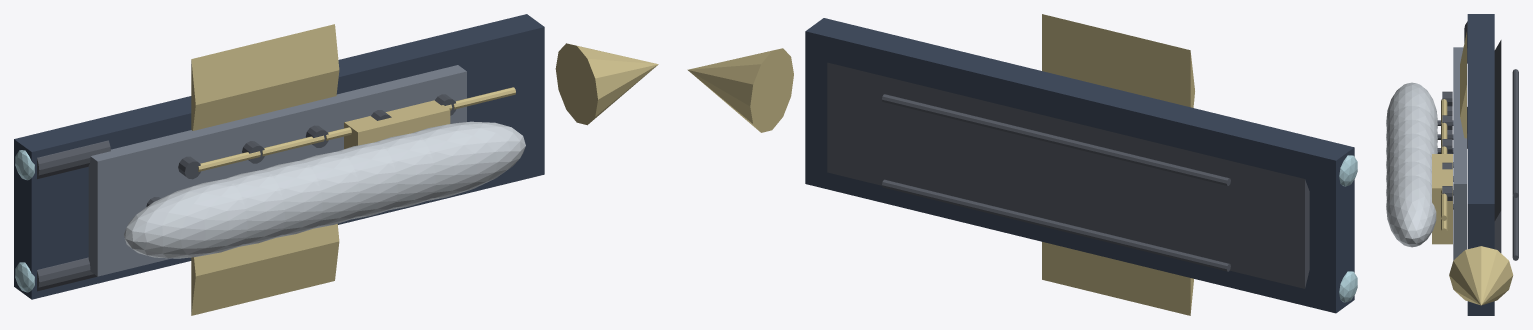
The model's file is SWS-012_warden_horizon_command_ark.glb.
3 renders of one model, left to right at view 1: azimuth 30°, elevation 25°; view 2: azimuth 150°, elevation 25°; view 3: azimuth 270°, elevation 25°, orthographic. The views are drawn at different scales.
Parts seen in each view (by area): view 1: main_hull, upper_deck, wing_1, wing_-1, aether_lift_bladder_1, aether_lift_bladder_7, aether_nose, aether_lift_bladder_6, aether_lift_bladder_3, aether_lift_bladder_5, aether_lift_bladder_2, aether_lift_bladder_4 (+8 smaller); view 2: keel, main_hull, wing_1, wing_-1, aether_nose, landing_skid_-1, landing_skid_1, engine_glow_-1; view 3: main_hull, aether_lift_bladder_7, aether_nose, upper_deck, keel, bridge, aether_lift_bladder_1, landing_skid_1, aether_lift_bladder_2, aether_lift_bladder_3, aether_lift_bladder_4, aether_lift_bladder_6 (+10 smaller).
Boxes of the visible parts, left/top/right/bottom form: main_hull: left=14, top=14, right=544, bottom=299; upper_deck: left=88, top=65, right=466, bottom=276; wing_1: left=191, top=24, right=339, bottom=130; wing_-1: left=191, top=224, right=339, bottom=315; aether_lift_bladder_1: left=124, top=179, right=247, bottom=258; aether_lift_bladder_7: left=412, top=121, right=525, bottom=200; aether_nose: left=555, top=43, right=658, bottom=125; aether_lift_bladder_6: left=375, top=133, right=435, bottom=209; aether_lift_bladder_3: left=262, top=160, right=322, bottom=237; aether_lift_bladder_5: left=337, top=142, right=397, bottom=219; aether_lift_bladder_2: left=225, top=170, right=284, bottom=246; aether_lift_bladder_4: left=300, top=151, right=359, bottom=228; keel: left=827, top=62, right=1309, bottom=288; main_hull: left=805, top=18, right=1354, bottom=313; wing_1: left=1042, top=14, right=1194, bottom=107; wing_-1: left=1042, top=242, right=1193, bottom=315; aether_nose: left=687, top=48, right=793, bottom=132; landing_skid_-1: left=882, top=179, right=1230, bottom=271; landing_skid_1: left=882, top=94, right=1230, bottom=185; engine_glow_-1: left=1339, top=271, right=1357, bottom=302; main_hull: left=1467, top=14, right=1494, bottom=315; aether_lift_bladder_7: left=1386, top=175, right=1436, bottom=247; aether_nose: left=1449, top=246, right=1513, bottom=305; upper_deck: left=1453, top=47, right=1466, bottom=260; keel: left=1494, top=40, right=1501, bottom=252; bridge: left=1432, top=154, right=1452, bottom=244; aether_lift_bladder_1: left=1386, top=82, right=1437, bottom=129; landing_skid_1: left=1512, top=69, right=1518, bottom=197; aether_lift_bladder_2: left=1386, top=106, right=1437, bottom=143; aether_lift_bladder_3: left=1386, top=119, right=1437, bottom=157; aether_lift_bladder_4: left=1386, top=133, right=1436, bottom=171; aether_lift_bladder_6: left=1386, top=161, right=1431, bottom=199.
Bounding box in the file's own units: 200 × 76.56 × 47.24.
